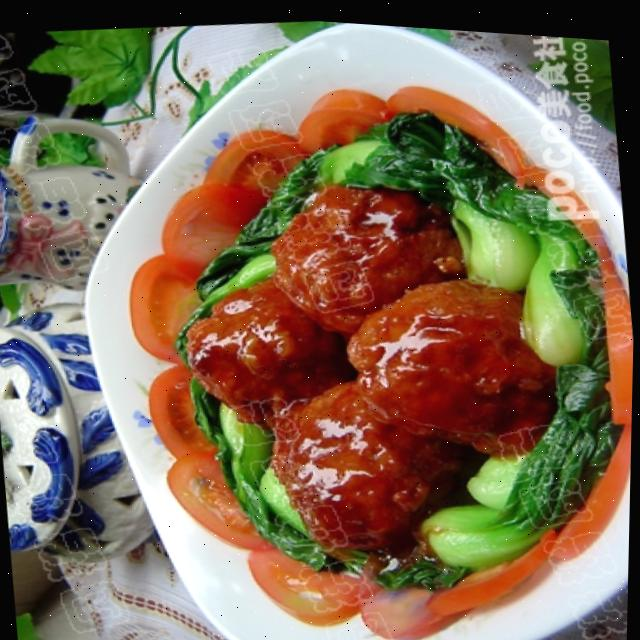猪肉菜式: (68, 4, 640, 640)
